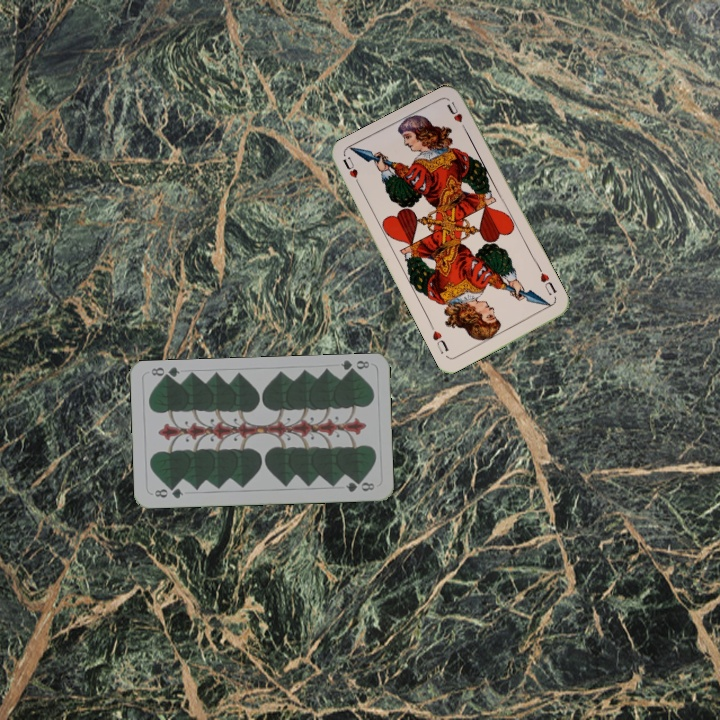G8: (337, 356, 372, 377), (150, 483, 186, 501)
HU: (339, 153, 364, 191), (535, 264, 559, 298)
